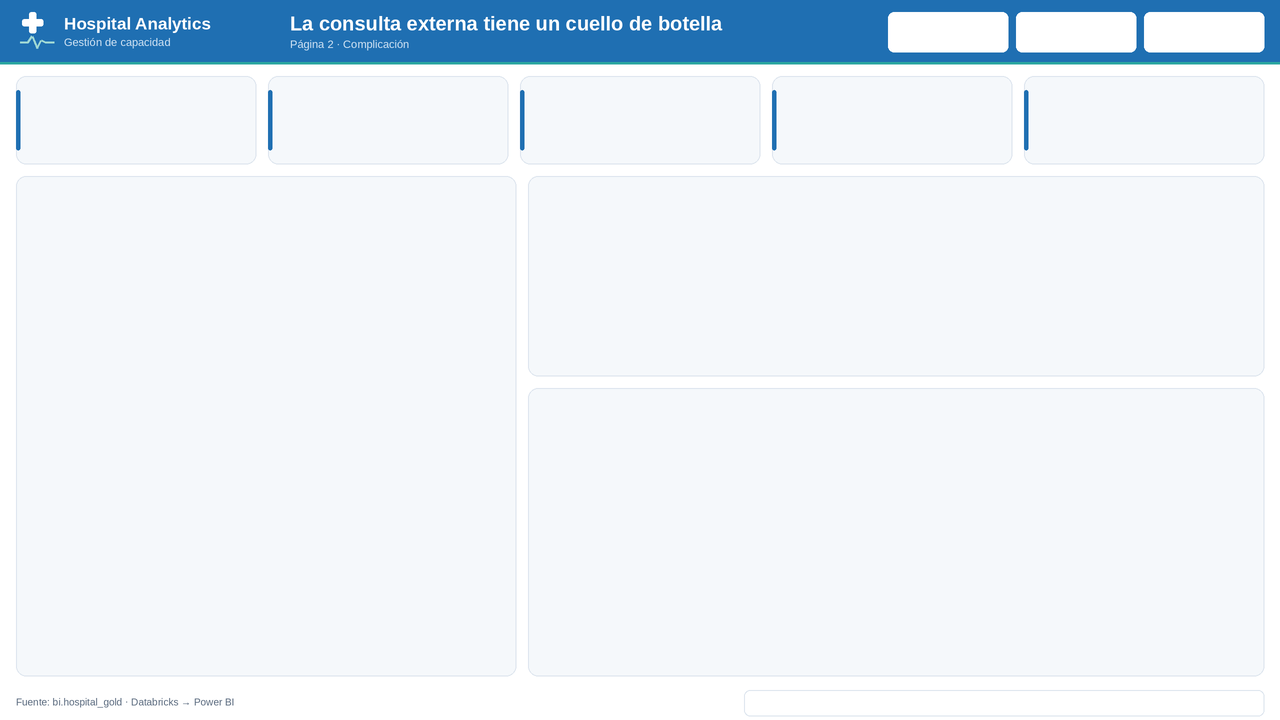

The page's visual inventory and layout, read from the dashboard file:
{"tool":"powerbi","page":{"name":"2 Complicación","canvas":[1920,1080],"ordinal":2},"visuals":[{"type":"slicer","fields":{"Values":["dim_date.year"]},"box":[1332,18,180,60],"z":0},{"type":"slicer","fields":{"Values":["dim_date.quarter_name"]},"box":[1524,18,180,60],"z":1000},{"type":"card","fields":{"Values":["_Medidas.% No Asistió"]},"box":[39,120,339,120],"z":1000},{"type":"slicer","fields":{"Values":["dim_departments.department_name"]},"box":[1716,18,180,60],"z":2000},{"type":"card","fields":{"Values":["_Medidas.% Canceladas"]},"box":[417,120,339,120],"z":2000},{"type":"card","fields":{"Values":["_Medidas.Citas Perdidas"]},"box":[795,120,339,120],"z":3000},{"type":"pageNavigator","box":[1116,1035,780,39],"z":3000},{"type":"card","fields":{"Values":["_Medidas.Recaudo sin Atención"]},"box":[1173,120,339,120],"z":4000},{"type":"card","fields":{"Values":["_Medidas.% Concentración Top Médico"]},"box":[1551,120,339,120],"z":5000},{"type":"clusteredBarChart","title":"Un médico concentra la mitad de la consulta","fields":{"Category":["dim_doctors.doctor_name"],"Y":["_Medidas.Total Citas"]},"box":[24,264,750,750],"z":6000},{"type":"clusteredColumnChart","title":"Solo 5 de 31 departamentos tienen consulta externa","fields":{"Category":["dim_departments.department_name"],"Y":["_Medidas.Total Citas"]},"box":[792,264,1104,300],"z":7000},{"type":"pivotTable","title":"La inasistencia es volátil: hasta 20,8 % en un trimestre","fields":{"Columns":["dim_date.Año-Trimestre"],"Rows":["dim_departments.department_name"],"Values":["_Medidas.% No Asistió"]},"box":[792,582,1104,432],"z":8000}]}

Visuals, with their boxes on the page's 1920x1080 design canvas (x1, y1, x2, y2). These are canvas units, not pixel positions in the 1280x720 screenshot, which may show the page scaled, cropped or inside an application window:
slicer - dim_date.year: x1=1332, y1=18, x2=1512, y2=78
slicer - dim_date.quarter_name: x1=1524, y1=18, x2=1704, y2=78
card - _Medidas.% No Asistió: x1=39, y1=120, x2=378, y2=240
slicer - dim_departments.department_name: x1=1716, y1=18, x2=1896, y2=78
card - _Medidas.% Canceladas: x1=417, y1=120, x2=756, y2=240
card - _Medidas.Citas Perdidas: x1=795, y1=120, x2=1134, y2=240
pageNavigator: x1=1116, y1=1035, x2=1896, y2=1074
card - _Medidas.Recaudo sin Atención: x1=1173, y1=120, x2=1512, y2=240
card - _Medidas.% Concentración Top Médico: x1=1551, y1=120, x2=1890, y2=240
"Un médico concentra la mitad de la consulta" clusteredBarChart: x1=24, y1=264, x2=774, y2=1014
"Solo 5 de 31 departamentos tienen consulta externa" clusteredColumnChart: x1=792, y1=264, x2=1896, y2=564
"La inasistencia es volátil: hasta 20,8 % en un trimestre" pivotTable: x1=792, y1=582, x2=1896, y2=1014
